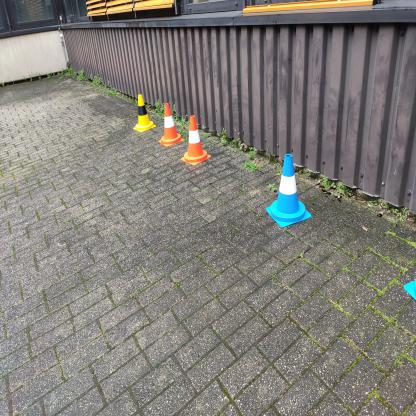Cones_small_blue: (259, 149, 315, 240)
Cones_small_orange: (182, 110, 209, 176), (157, 92, 180, 156)
Cones_small_yellow: (126, 87, 158, 138)
